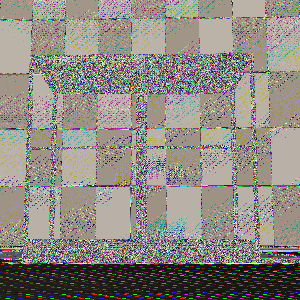Rack: (22, 52, 261, 263)
